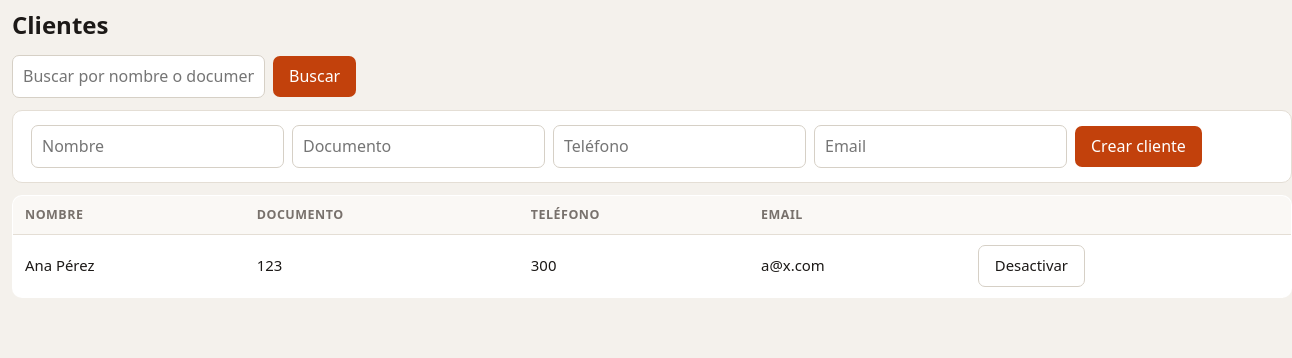
ClientesPage › muestra errores al crear y al desactivar
Expected: the text "Ana Pérez" is shown, x1=12 y1=235 x2=245 y2=297
In the field with placeholder "Nombre": (158, 147) x1=31 y1=125 x2=284 y2=168, type "Luis"
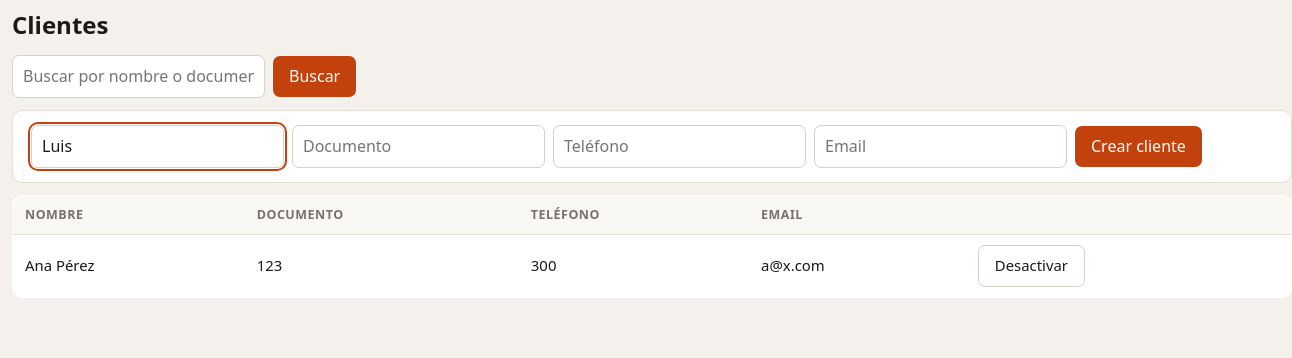
In the field with placeholder "Documento": (418, 147) x1=292 y1=125 x2=545 y2=168, type "123"
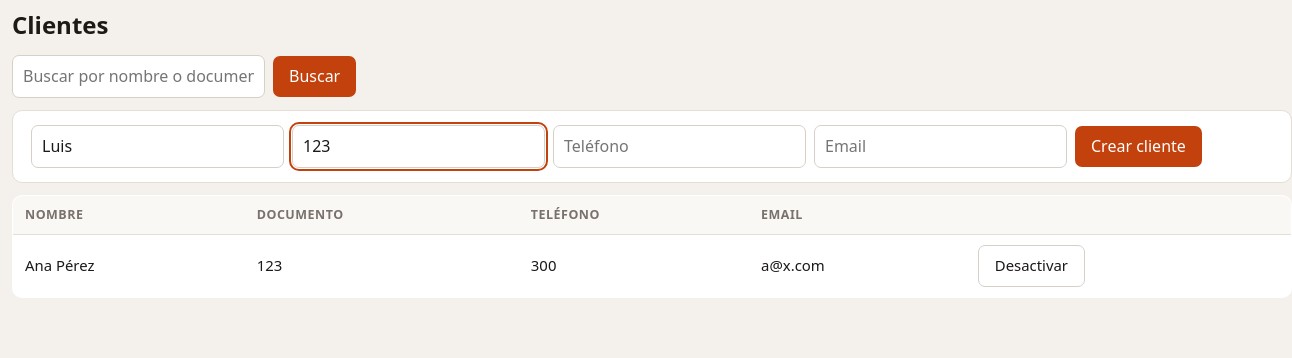
Click the button "Crear cliente": (1138, 147) x1=1075 y1=126 x2=1202 y2=167
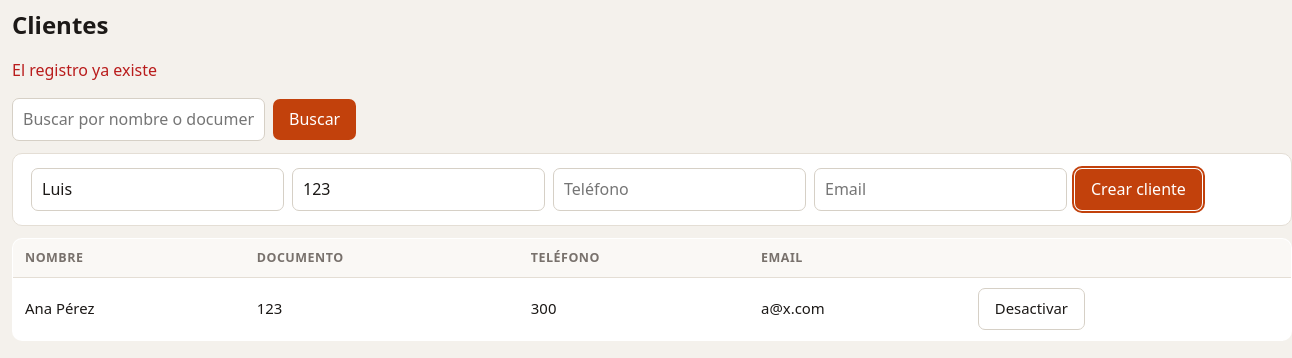
Expected: the message reads "El registro ya existe", x1=12 y1=59 x2=157 y2=81
Click the button "Desactivar": (1031, 309) x1=978 y1=288 x2=1085 y2=330
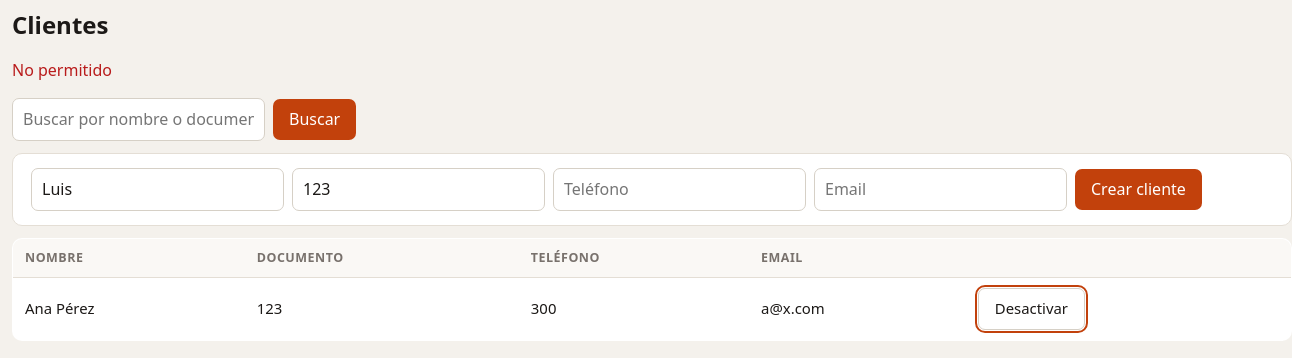
Expected: the message reads "No permitido", x1=12 y1=59 x2=112 y2=81
